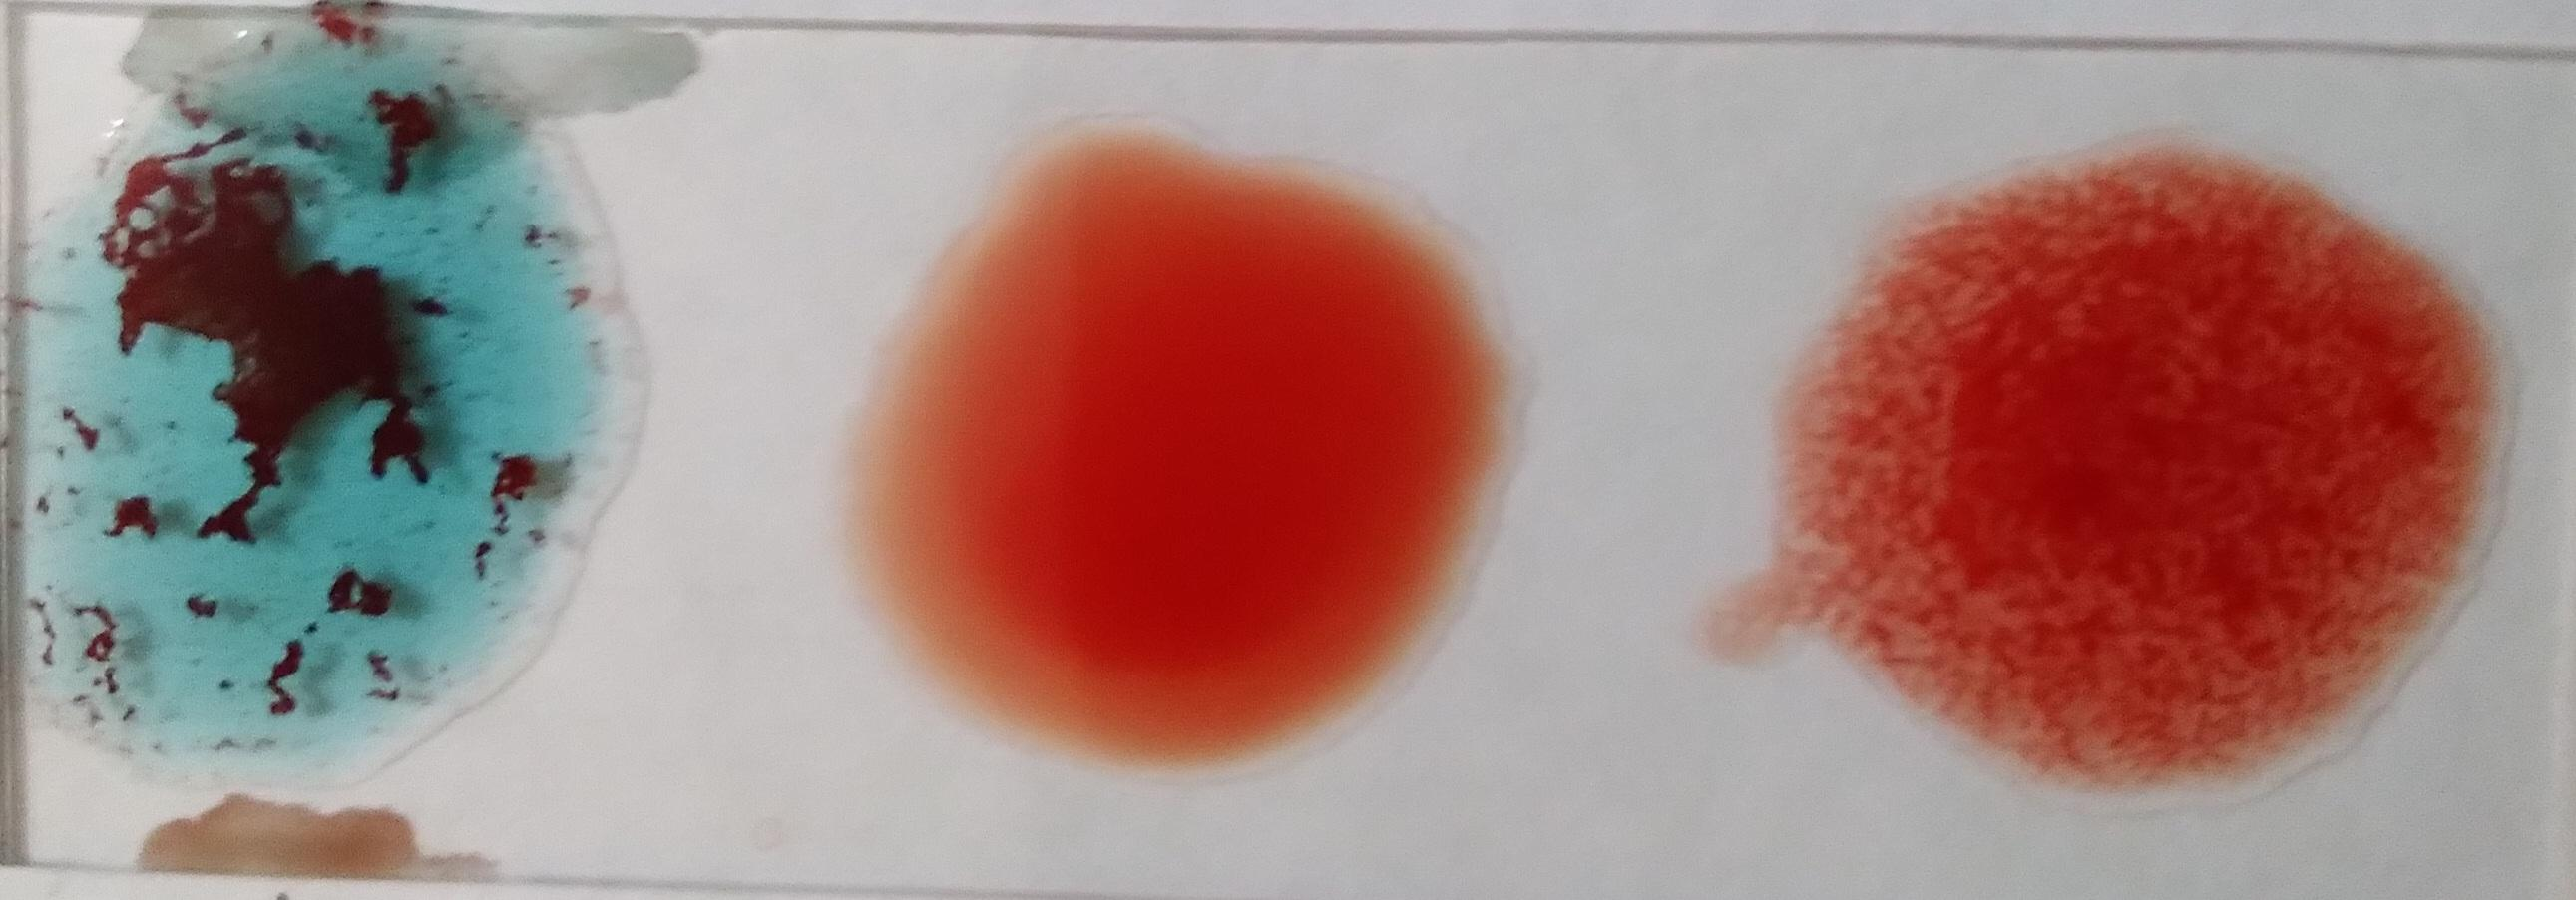A: (15, 76, 616, 747)
D: (1787, 163, 2510, 780)
